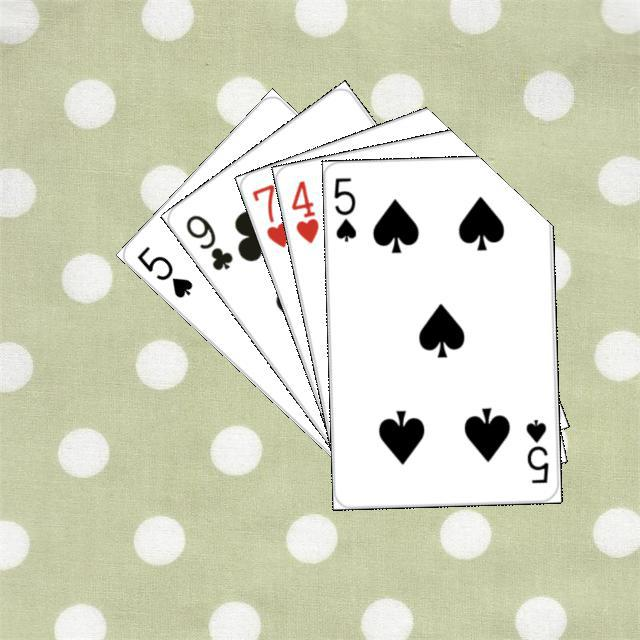4h: (286, 175, 321, 245)
5s: (132, 241, 195, 300), (521, 415, 550, 485), (329, 172, 357, 244)
7h: (246, 179, 292, 250)
9c: (180, 209, 235, 272)
